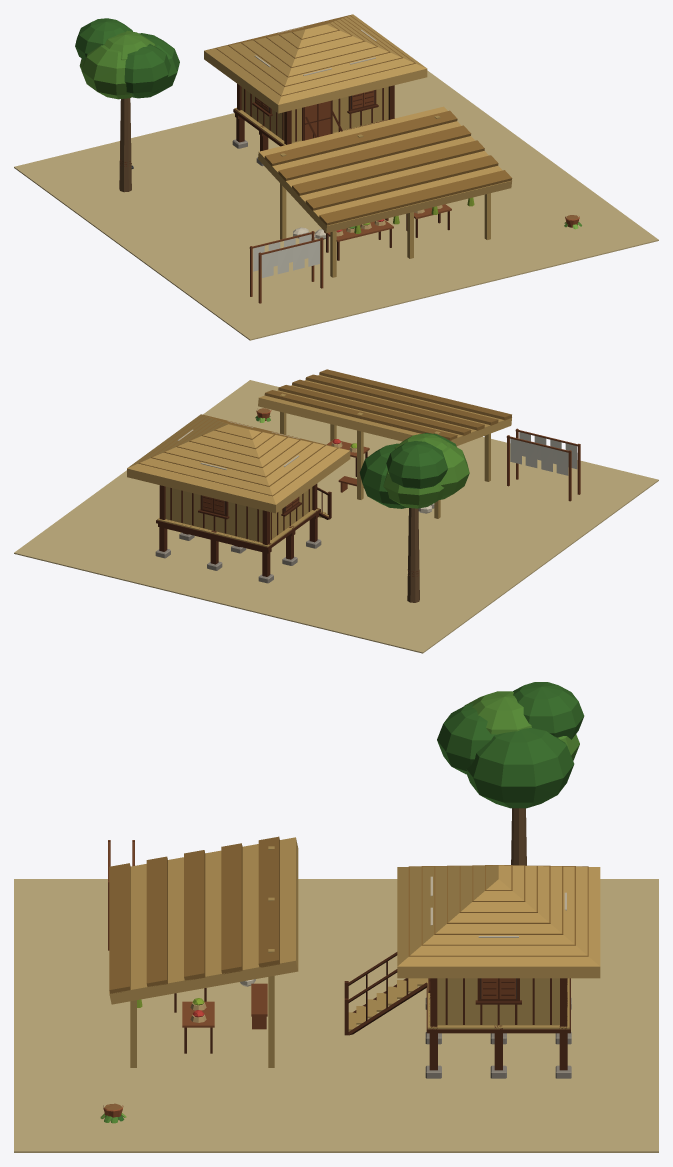
The model's file is shop_1.glb.
3 views of the same model, one above another, from view 1: azimuth 30°, elevation 25°; view 2: azimuth 150°, elevation 25°; view 3: azimuth 270°, elevation 25° (orthographic). The views are drawn at different scales.
Parts seen in each view (by area): view 1: body; view 2: body; view 3: body.
Part boxes in pixels (x1,y1,x2,y2): body: [14, 14, 658, 340]; body: [14, 369, 658, 653]; body: [14, 682, 658, 1152].
Bounding box in the file's own units: 15.9 × 6.46 × 15.9.
